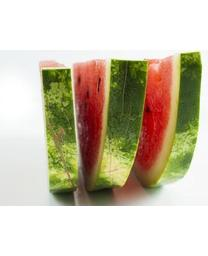watermelon: (35, 53, 203, 199)
